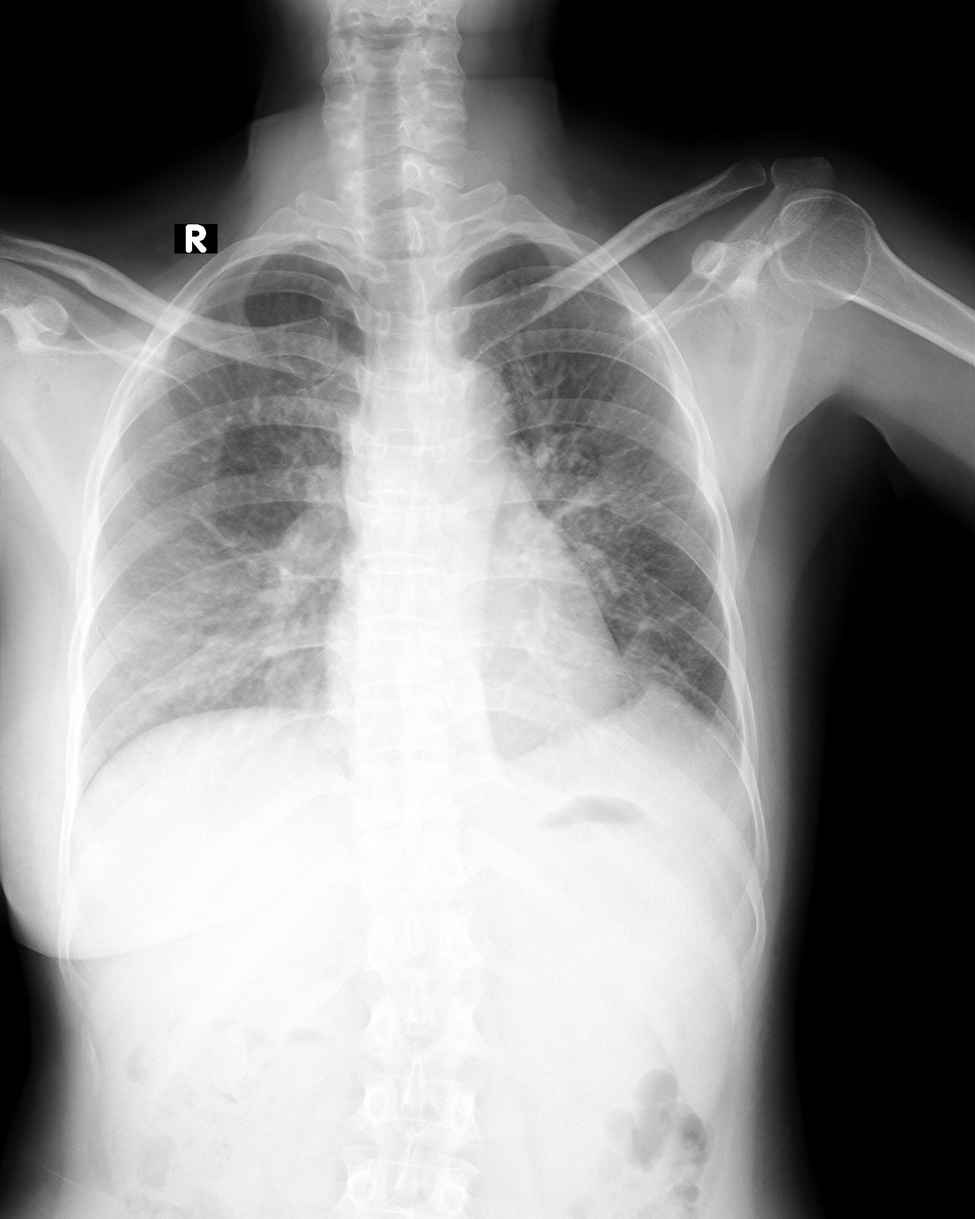Aortic enlargement: (406, 356, 515, 480)
Pulmonary fibrosis: (533, 433, 703, 570), (604, 599, 705, 652), (191, 511, 236, 548)
